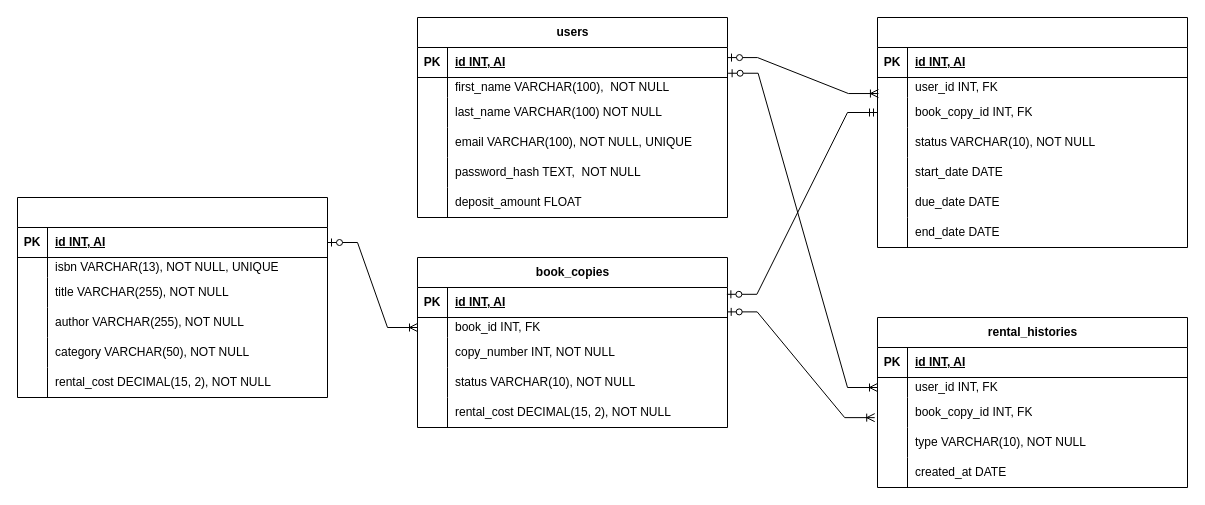
Some shapes in this 1205 by 505 pixel diagram are drawn without their labels. The shapes that lost their labels are listed below. From the top down, each one's box as (x1, y1, x2, y2) in pixels, then its label:
(876, 16, 1188, 248): rents
(16, 196, 328, 398): books
